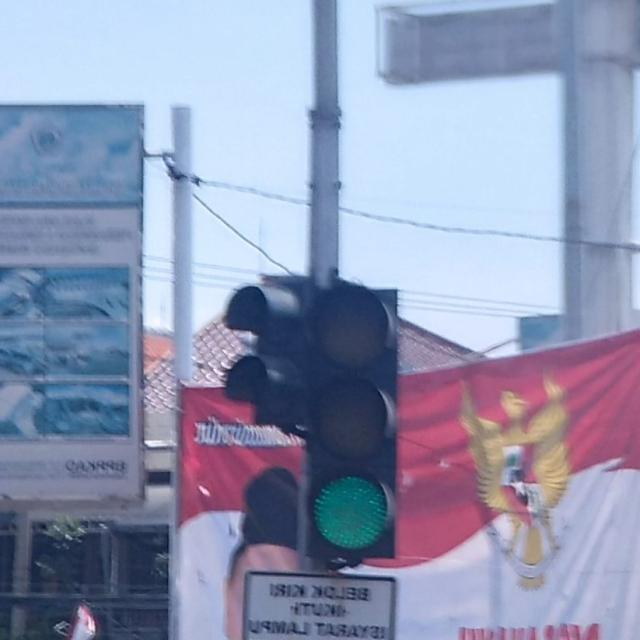green_light: (299, 279, 394, 567)
